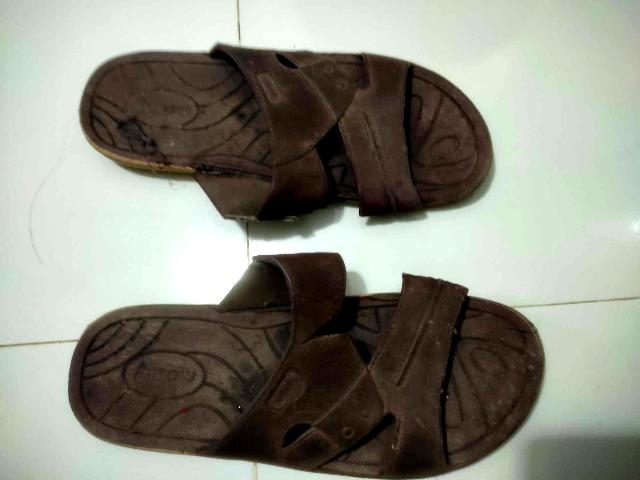sandal: (68, 289, 561, 480), (63, 31, 513, 198)
